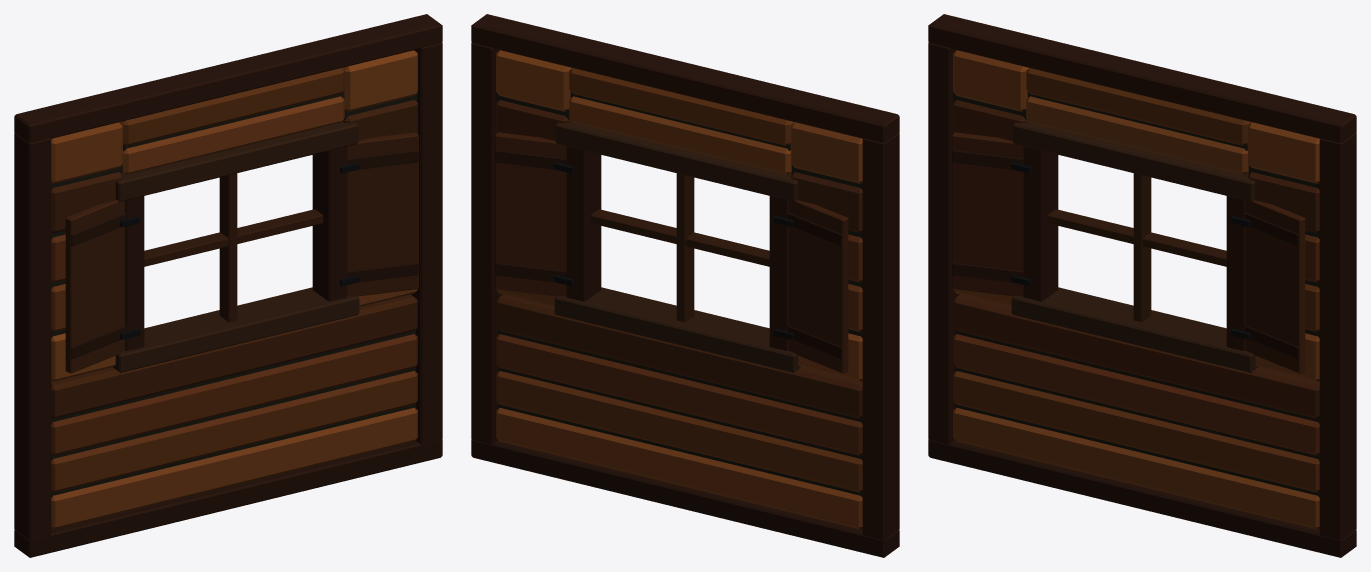
The model's file is mod_plank_window_2x2m.glb.
3 views of the same model, side by side, from view 1: azimuth 30°, elevation 25°; view 2: azimuth 150°, elevation 25°; view 3: azimuth 330°, elevation 25° (orthographic).
Visible parts, largest first — view 1: Mod_Plank_Window_2x2m; view 2: Mod_Plank_Window_2x2m; view 3: Mod_Plank_Window_2x2m.
Boxes of the visible parts, x1,y1,x2,y2 form: Mod_Plank_Window_2x2m: (14, 14, 442, 557); Mod_Plank_Window_2x2m: (471, 14, 899, 557); Mod_Plank_Window_2x2m: (928, 14, 1356, 557).
Size of the model in its own units: 2 by 2 by 0.2851.
